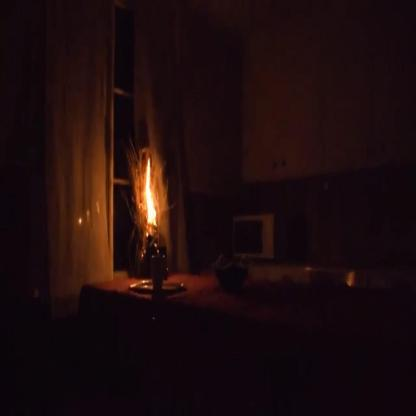fire: (140, 151, 162, 233)
